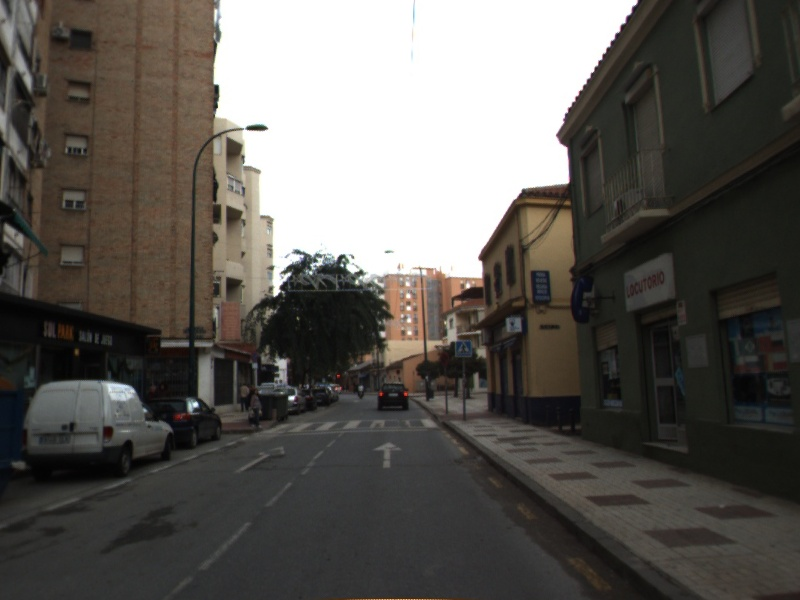STRAIGHT: (233, 443, 287, 475), (370, 439, 405, 471)
